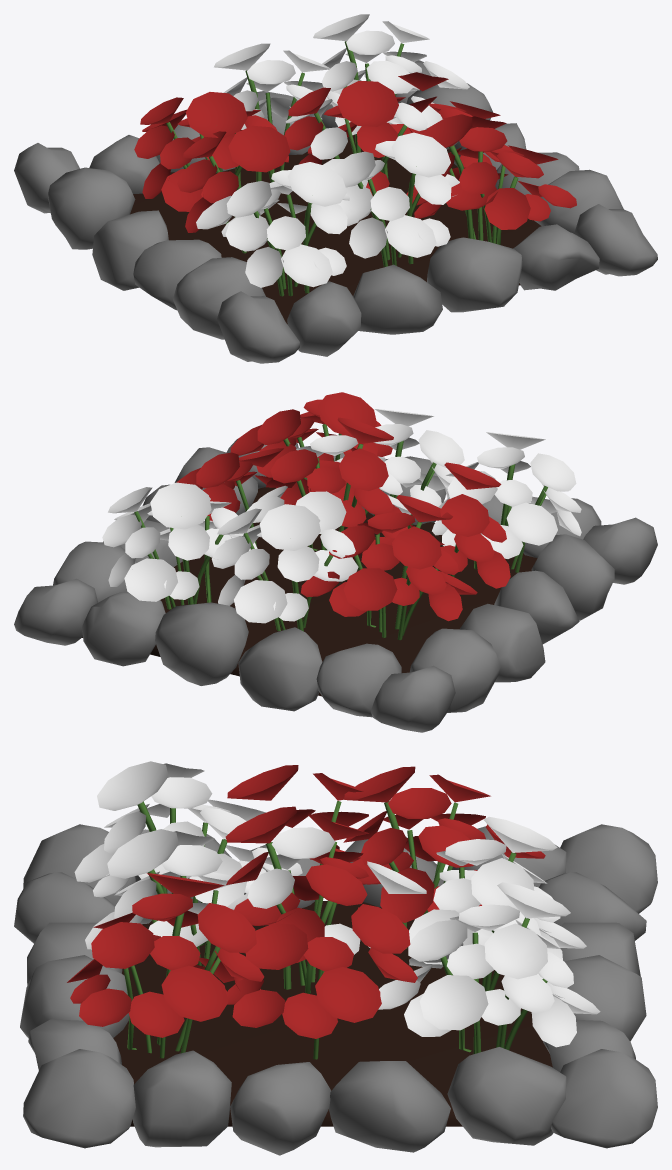
The model's file is SM_flowerbed_01_preset.fbx.
3 views of the same model, one above another, from view 1: azimuth 30°, elevation 25°; view 2: azimuth 150°, elevation 25°; view 3: azimuth 270°, elevation 25° (orthographic). The views are drawn at different scales.
Parts seen in each view (by area): view 1: Box046; view 2: Box046; view 3: Box046.
Part boxes in pixels (box(x1,y1,x2,y2)): Box046: box(14, 14, 657, 363); Box046: box(14, 392, 657, 732); Box046: box(14, 761, 657, 1155).
Bounding box in the file's own units: 60.8 × 23.78 × 60.29.
